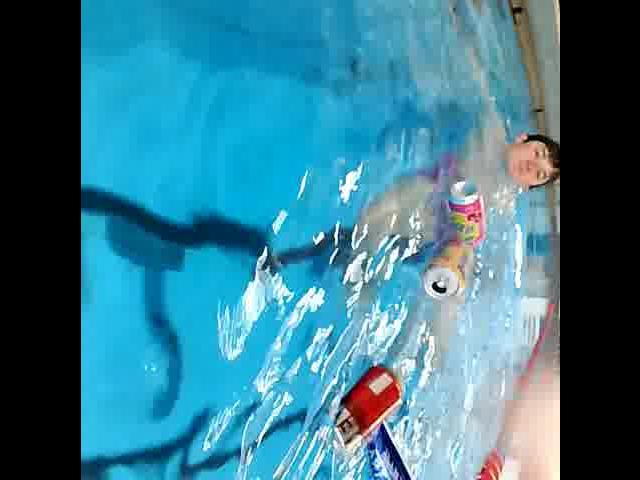Can: (323, 362, 405, 456), (418, 238, 478, 308), (359, 419, 421, 480), (446, 174, 486, 250)
